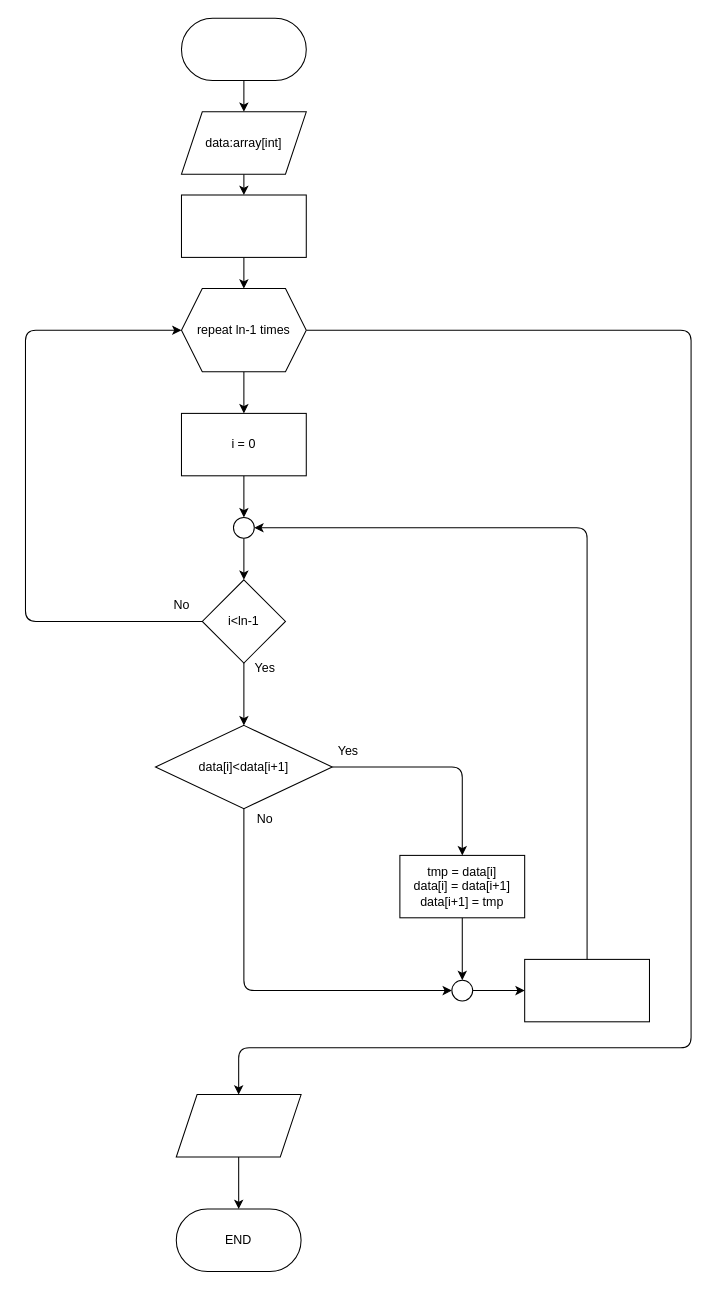
Image size: 718x1290. Some labels were removed from this diagram. Each missing label, with the centre of its shape:
"data" goes at (238,1125).
"i = i + 1" goes at (586,990).
"ln=len(data)" goes at (243,225).
"START" goes at (243,49).
